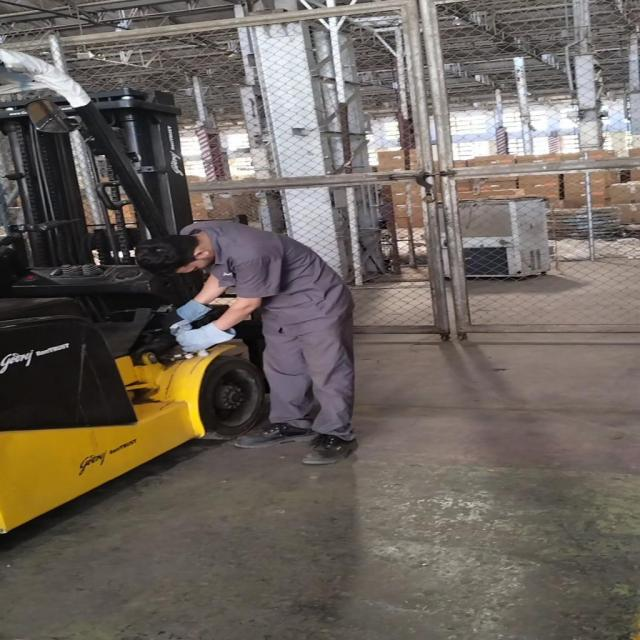Gloves-Detection: (172, 326, 234, 352), (154, 302, 200, 328)
